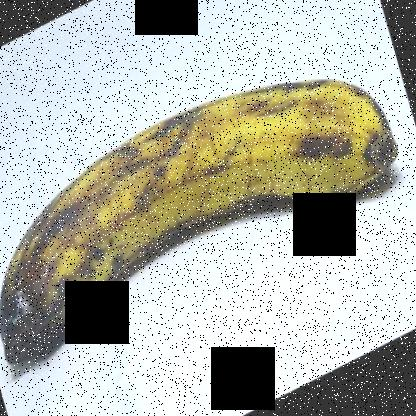overripe: (0, 64, 405, 371)
rotten: (0, 224, 82, 382)
